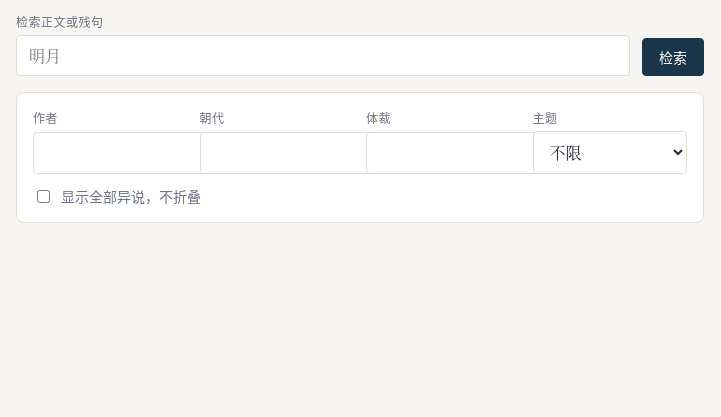
检索 › 零命中显示「没有命中」而不是一片空白
The image size is (721, 417).
Type "不存在的句子" into the search field with test id "search-input" at {"x": 323, "y": 56}, box 16,35 -> 630,76
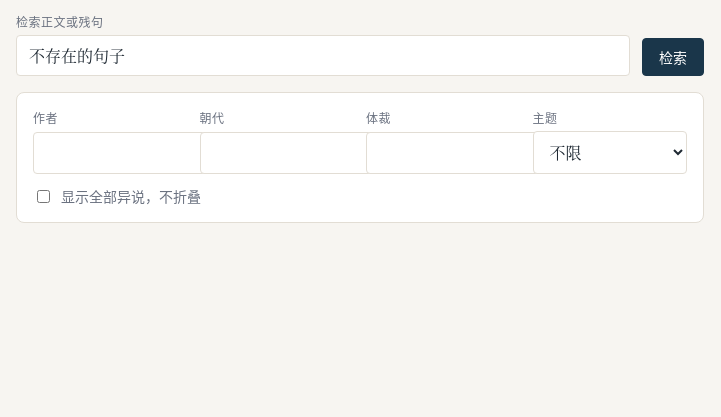
Click the button with test id "search-submit" at {"x": 673, "y": 57}, box 642,38 -> 704,76
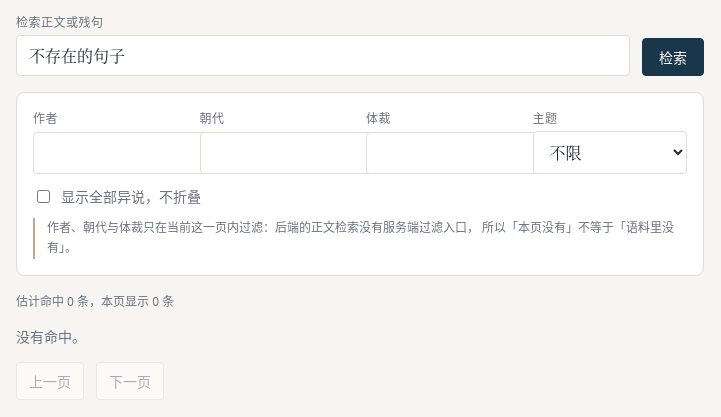
Result: the text "没有命中。" is shown at 16,327 -> 86,346
